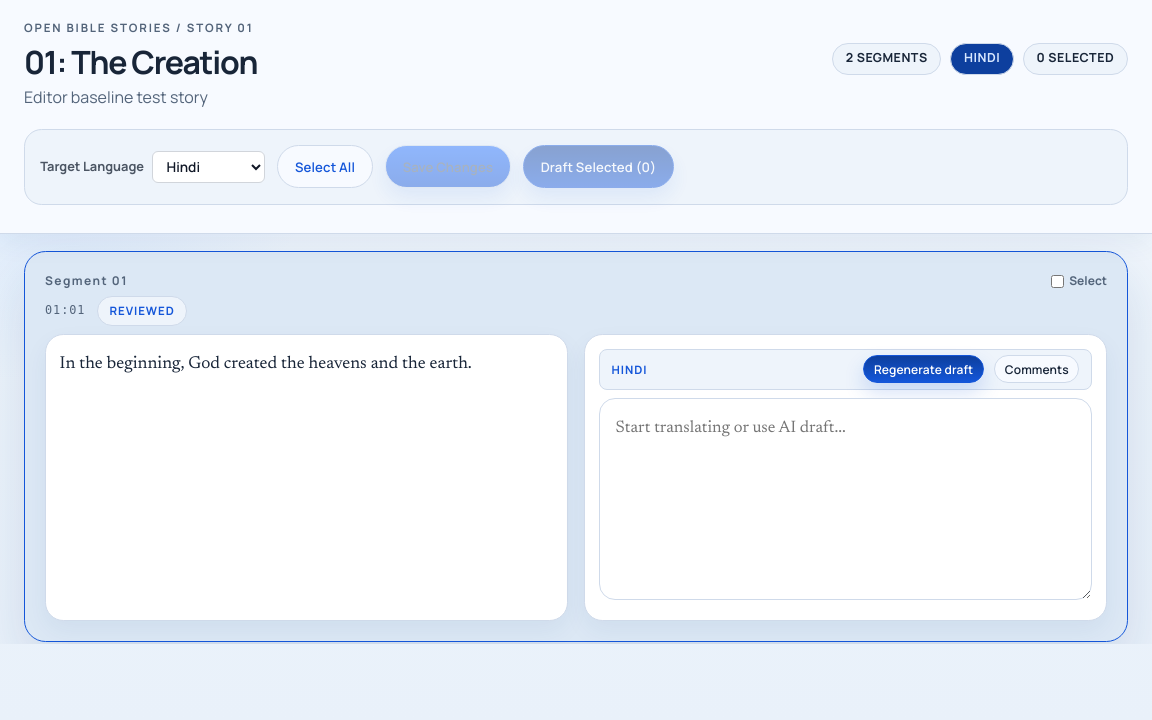
it: StoryEditorBaseline › supports select all and deselect all for segment checkboxes
What coordinates should you click on to do the following:
click the button with test id "bulk-select-btn"
I would click on:
 (325, 167)
Its box is [277, 145, 373, 188].
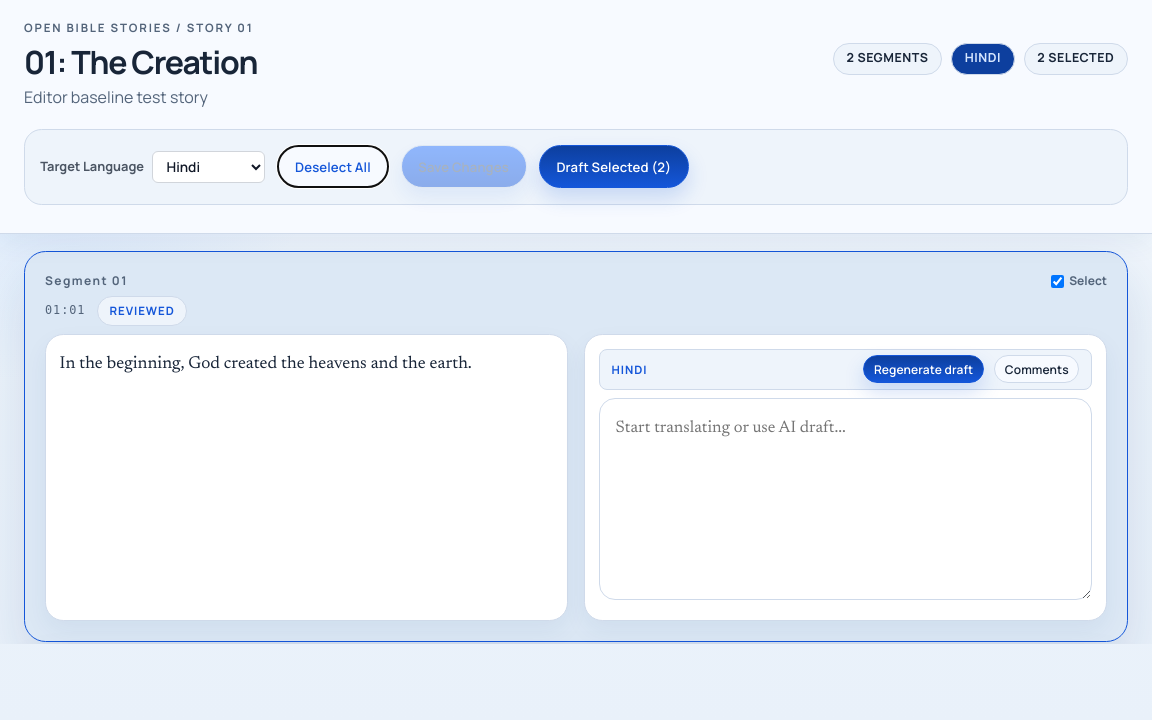
Expected: the checkbox named "select-segment-01:01" is checked, [1051, 275, 1064, 288]
Expected: the button with test id "bulk-select-btn" reads "Deselect All"
Expected: the button with test id "draft-selected-btn" reads "Draft Selected (2)", [539, 145, 689, 188]
What coordinates should you click on to do the following:
click the button with test id "bulk-select-btn"
I would click on:
 (333, 167)
Its box is [277, 145, 389, 188].
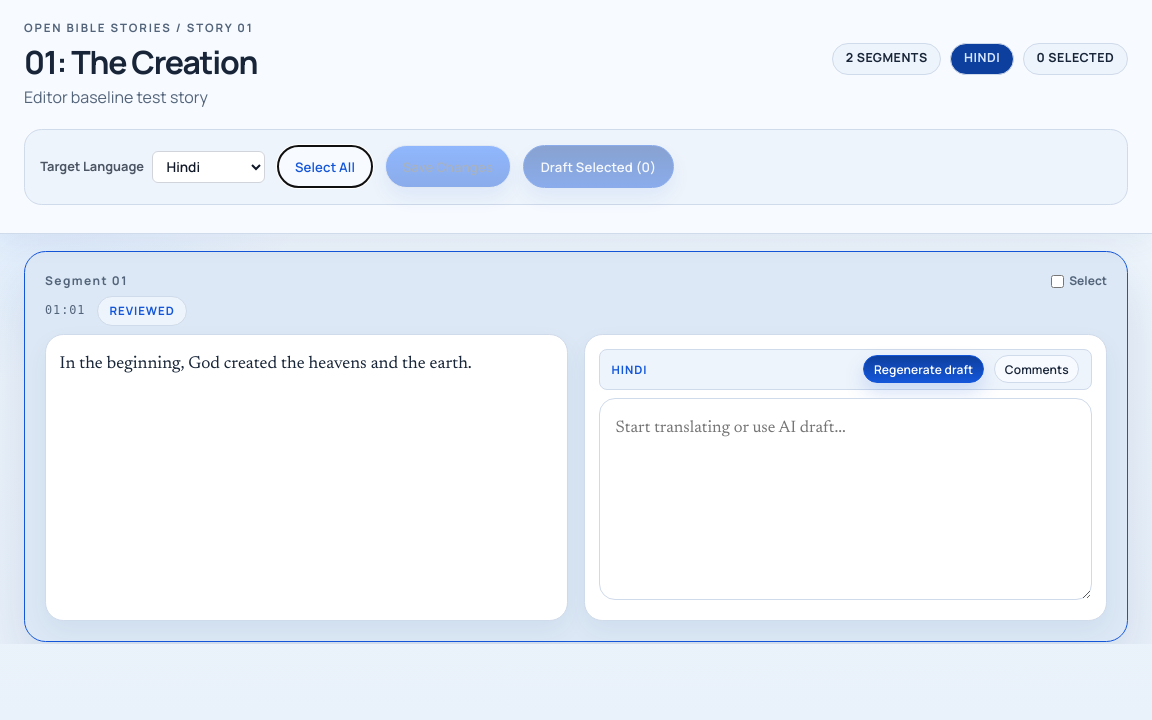
Expected: the checkbox named "select-segment-01:01" is not checked, [1051, 275, 1064, 288]
Expected: the button with test id "bulk-select-btn" reads "Select All", [277, 145, 373, 188]
Expected: the button with test id "draft-selected-btn" reads "Draft Selected (0)", [523, 145, 674, 188]
